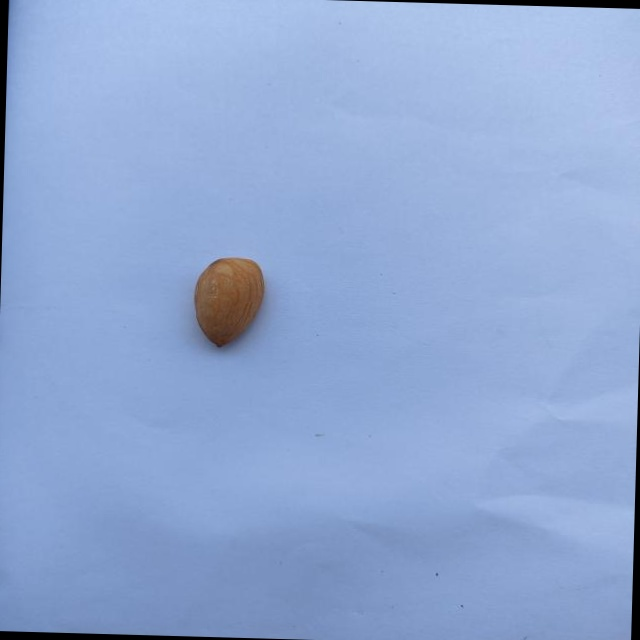grade2: (190, 253, 272, 352)
